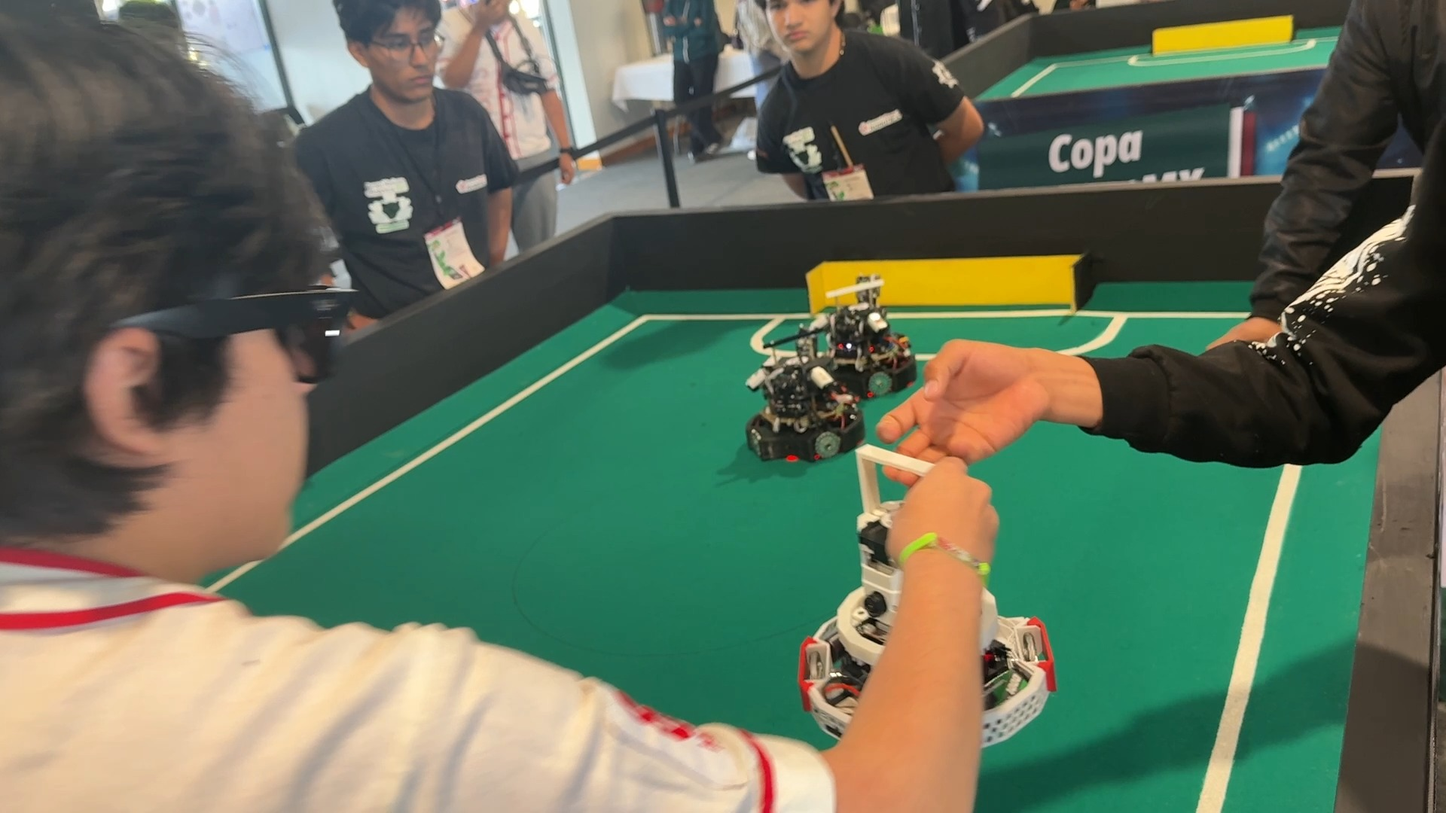Robot: (800, 437, 1061, 751), (734, 321, 865, 489), (806, 272, 934, 405)
